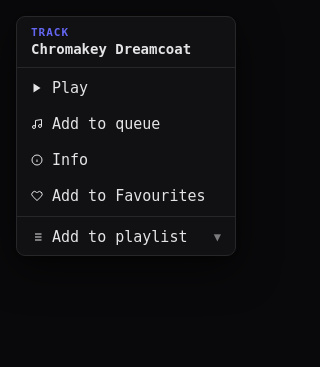
Test: ContextMenuRoot › opens playlist submenu on hover
Hover over the button "Add to playlist ▼": coordinates (126, 237) [17, 219, 235, 255]
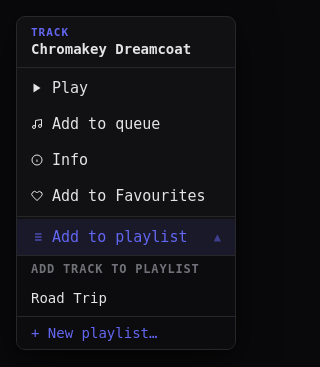
Check: the button "Road Trip" is shown, box [17, 282, 235, 314]
